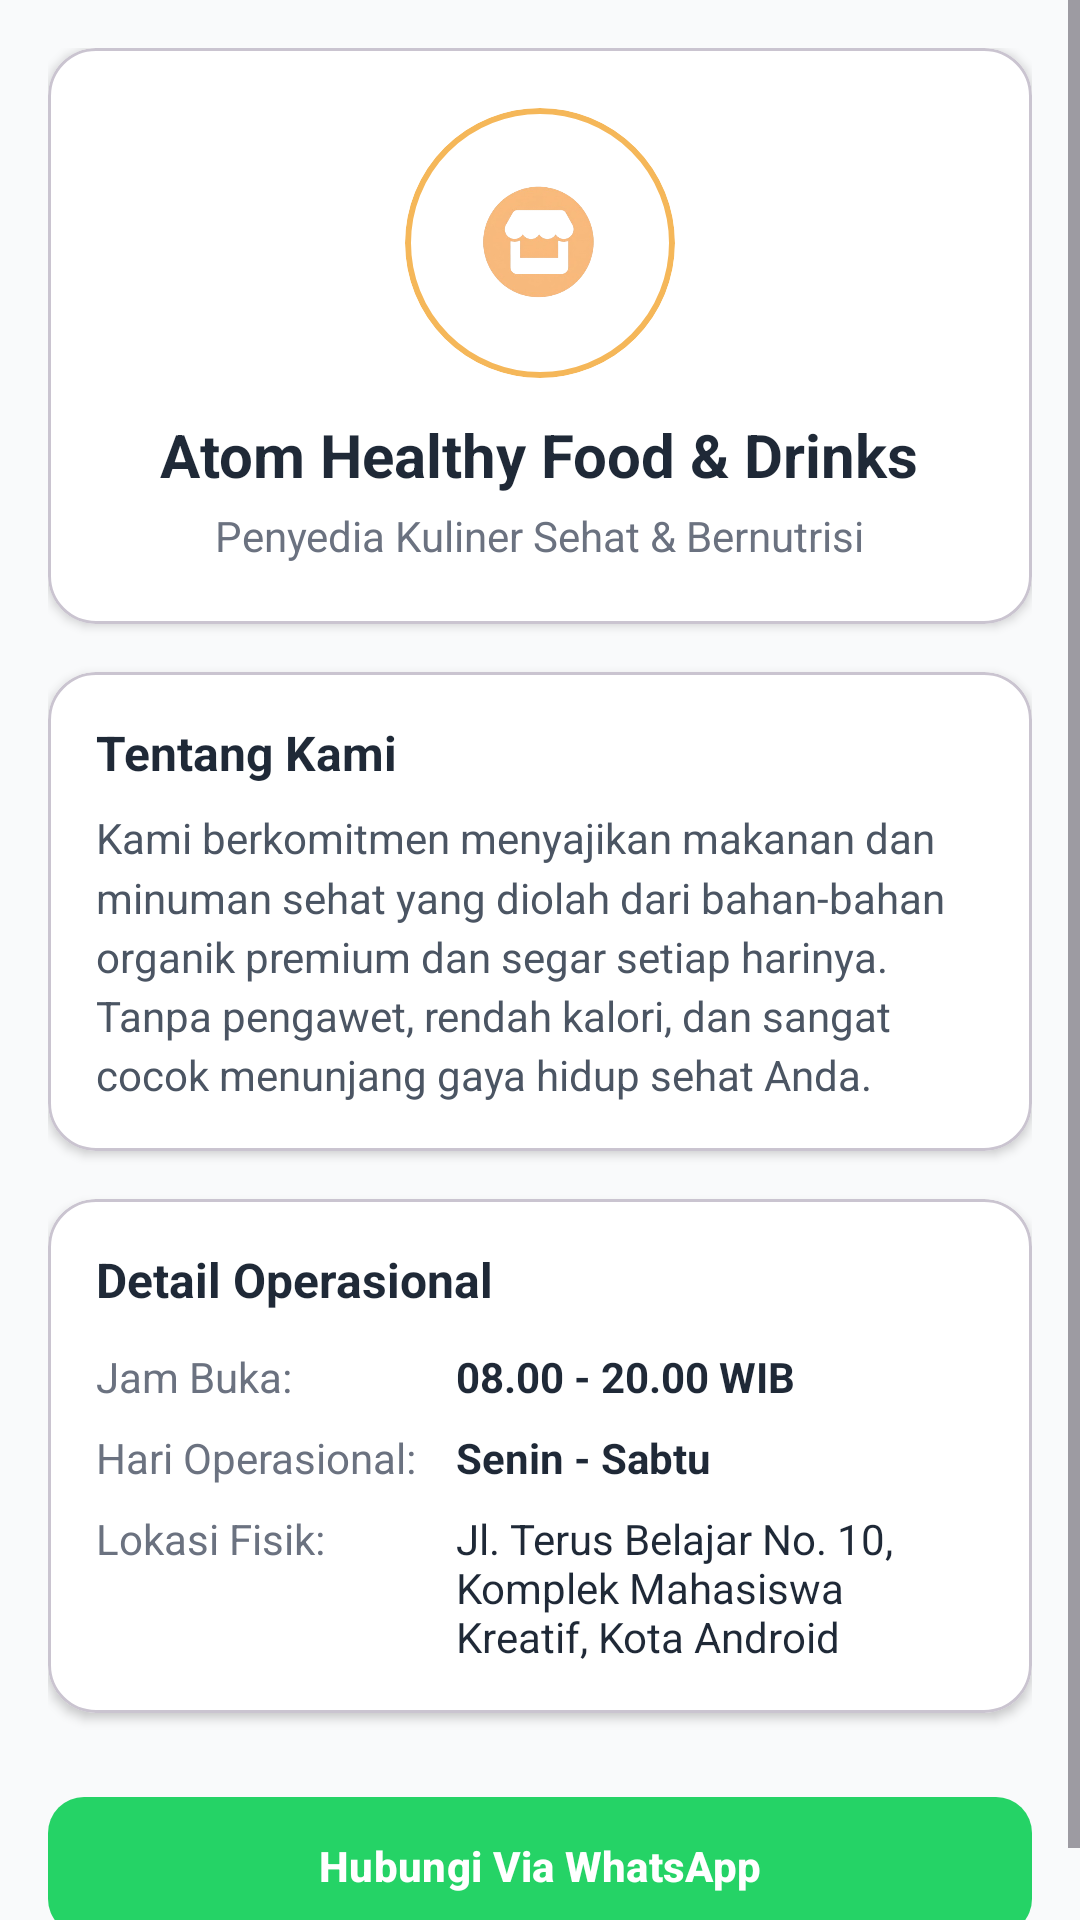

Named icons in this screenshot (1080px×1920px) and their centers, point (x, y):
umkm: point (540, 243)
